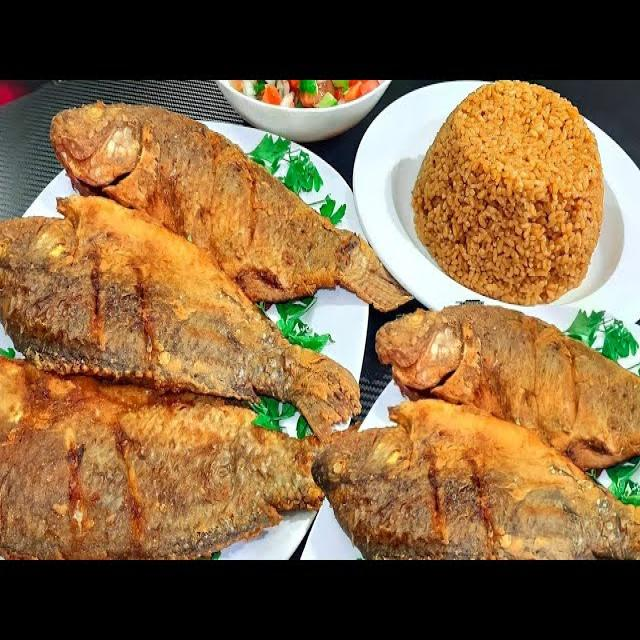Peixe: (1, 91, 637, 560), (0, 192, 362, 437), (48, 98, 413, 314), (0, 356, 329, 560), (310, 396, 639, 560), (374, 300, 639, 471), (410, 77, 604, 306)
